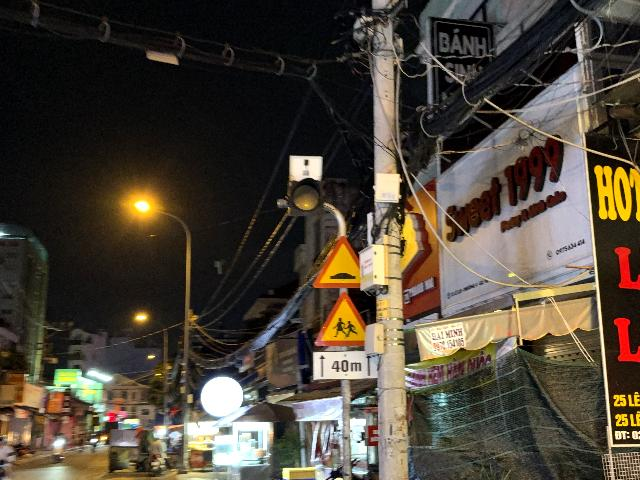duong-co-go-giam-toc: (313, 234, 361, 288)
tre-em-qua-duong: (315, 291, 366, 346)
